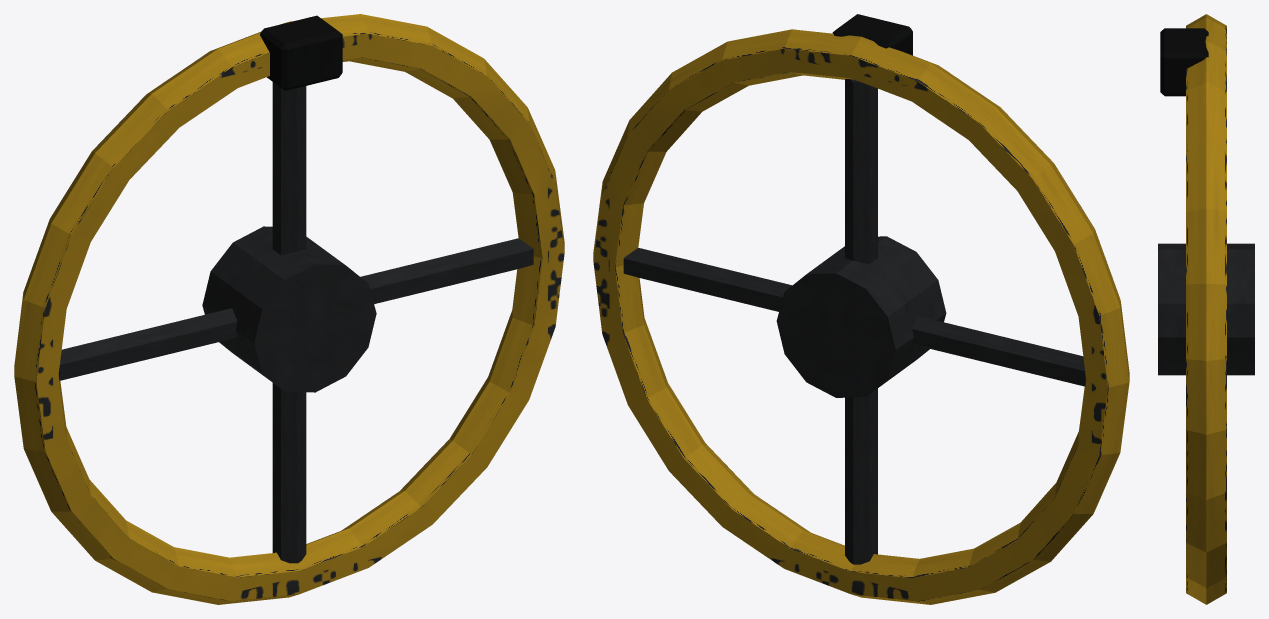
File: HarborValveWheel.fbx
3 views of the same model, side by side, from view 1: azimuth 30°, elevation 25°; view 2: azimuth 150°, elevation 25°; view 3: azimuth 270°, elevation 25° (orthographic). The views are drawn at different scales.
Parts seen in each view (by area): view 1: HarborValveWheel.001; view 2: HarborValveWheel.001; view 3: HarborValveWheel.001.
Boxes of the visible parts, <box> form: HarborValveWheel.001: <box>14,14,564,604</box>; HarborValveWheel.001: <box>593,14,1129,604</box>; HarborValveWheel.001: <box>1158,14,1254,604</box>.
Size of the model in its own units: 0.674 by 0.6745 by 0.11.
